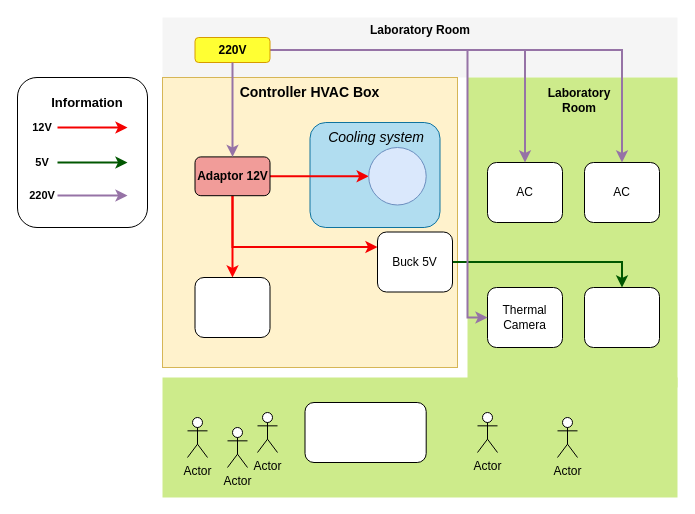
The diagram is 695 pixels wide and 514 high, and some of its shapes have lost their labels. The shapes that lost their labels are listed below. From the top down, each one's centre as x and y in pixels, then its label:
At point (397, 175): "FAN".
At point (232, 307): "Mini PC".
At point (622, 317): "Universal Remote".
At point (365, 432): "LCD Display / UI control".
